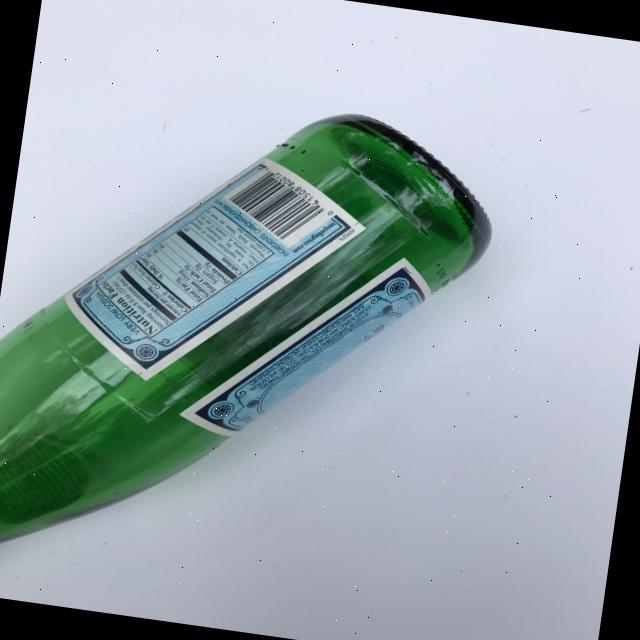glass: (0, 67, 507, 623)
